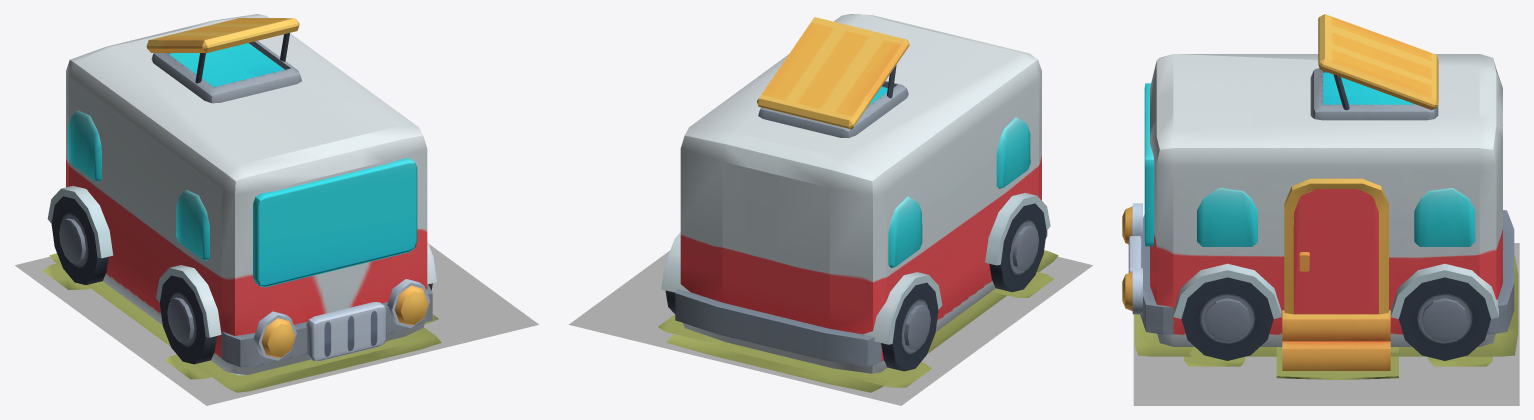
Rendered from Camper.fbx.
3 views of the same model, side by side, from view 1: azimuth 30°, elevation 25°; view 2: azimuth 150°, elevation 25°; view 3: azimuth 270°, elevation 25° (orthographic).
Parts seen in each view (by area): view 1: RV1, Windsheild, RVGrid1, Tire, RVShadow, WindowTop, Window, MetalFront, TireSupport, Shade, Headlights; view 2: RV1, RVGrid1, Shade, RVShadow, Tire, TireSupport, Window, WindowTop; view 3: RV1, RVGrid1, Door, Tire, Shade, Window, Stairs, RVShadow, WindowTop, TireSupport, Headlights, Windsheild (+1 smaller).
Boxes of the visible parts, x1=… form: RV1: x1=66, y1=14, x2=432, y2=375; Windsheild: x1=253, y1=158, x2=417, y2=287; RVGrid1: x1=15, y1=243, x2=538, y2=405; Tire: x1=51, y1=196, x2=432, y2=364; RVShadow: x1=43, y1=253, x2=441, y2=392; WindowTop: x1=151, y1=41, x2=301, y2=103; Window: x1=68, y1=110, x2=209, y2=260; MetalFront: x1=306, y1=302, x2=386, y2=361; TireSupport: x1=47, y1=185, x2=436, y2=337; Shade: x1=146, y1=18, x2=299, y2=52; Headlights: x1=253, y1=279, x2=429, y2=360; RV1: x1=675, y1=14, x2=1047, y2=373; RVGrid1: x1=569, y1=251, x2=1092, y2=405; Shade: x1=757, y1=17, x2=909, y2=129; RVShadow: x1=658, y1=250, x2=1058, y2=392; Tire: x1=665, y1=203, x2=1046, y2=371; TireSupport: x1=661, y1=193, x2=1050, y2=344; Window: x1=888, y1=117, x2=1030, y2=267; WindowTop: x1=758, y1=81, x2=908, y2=138; RV1: x1=1138, y1=54, x2=1514, y2=346; RVGrid1: x1=1133, y1=243, x2=1519, y2=405; Door: x1=1284, y1=178, x2=1388, y2=314; Tire: x1=1181, y1=277, x2=1490, y2=360; Shade: x1=1318, y1=14, x2=1438, y2=110; Window: x1=1197, y1=188, x2=1475, y2=246; Stairs: x1=1282, y1=310, x2=1390, y2=370; RVShadow: x1=1134, y1=255, x2=1518, y2=380; WindowTop: x1=1310, y1=68, x2=1438, y2=120; TireSupport: x1=1173, y1=263, x2=1498, y2=318; Headlights: x1=1122, y1=203, x2=1142, y2=314; Windsheild: x1=1144, y1=83, x2=1154, y2=246.
Size of the model in its own units: 300 by 235 by 309.
